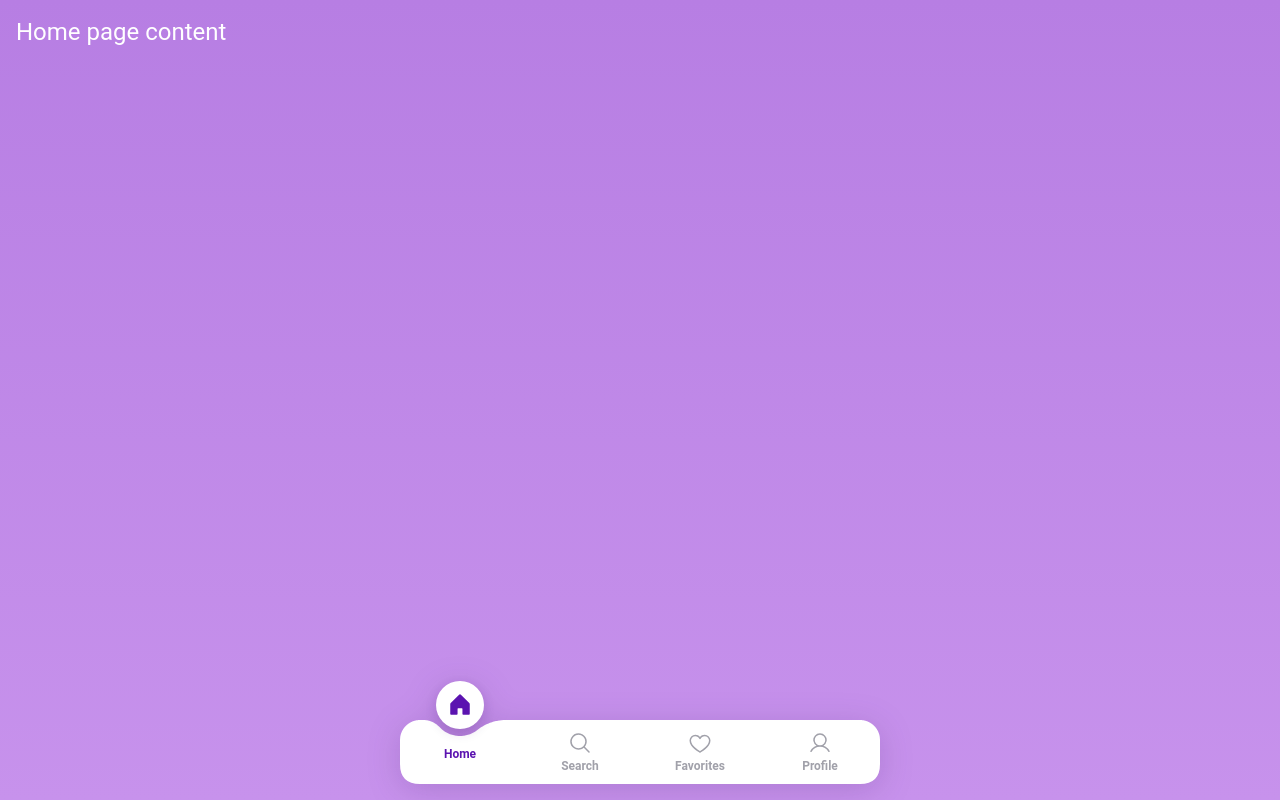
Test: shows the page for each clicked tab
Expected: the heading "Home page content" is shown, [16, 18, 226, 46]
Step 1. Click the button "Favorites" → coordinates (700, 752), box [640, 720, 760, 784]
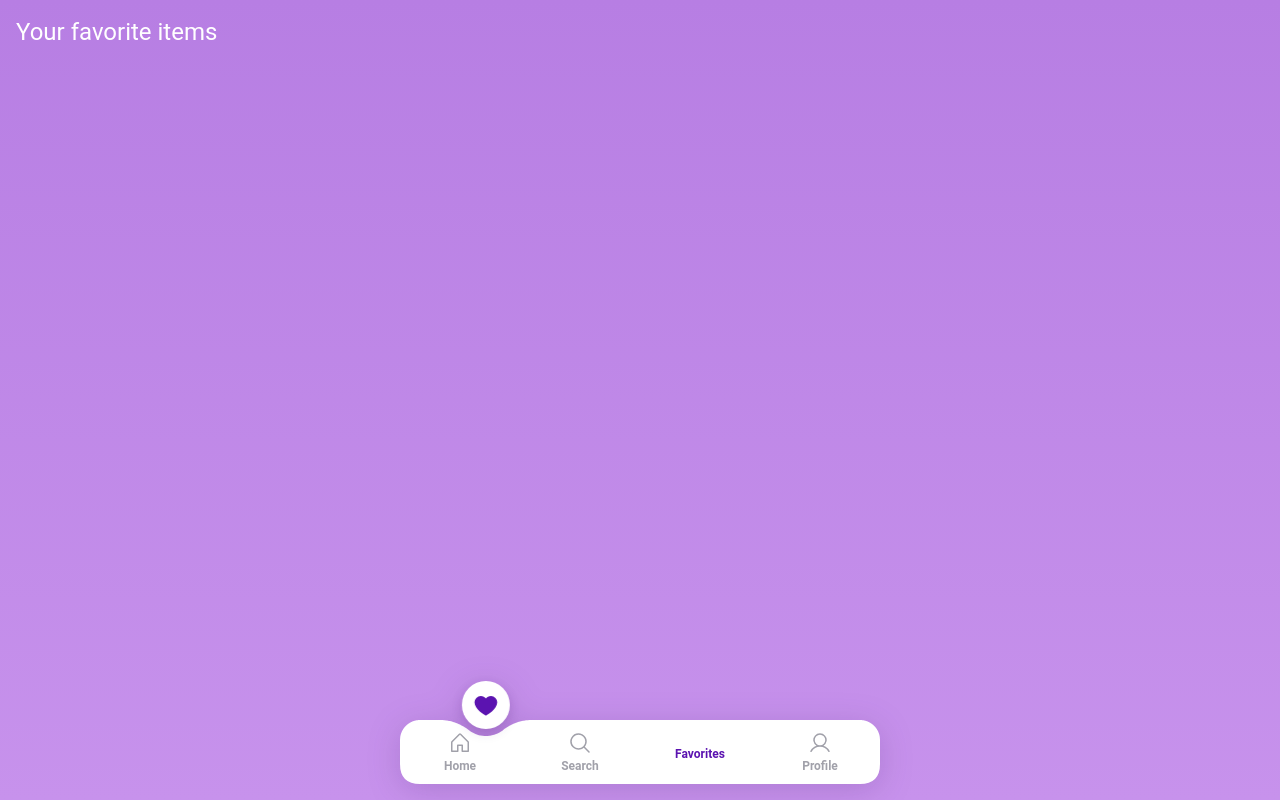
Result: the heading "Your favorite items" is shown at [16, 18, 217, 46]
Result: the heading "Home page content" is gone
Step 2. Click the button "Profile" → coordinates (820, 752), box [760, 720, 880, 784]
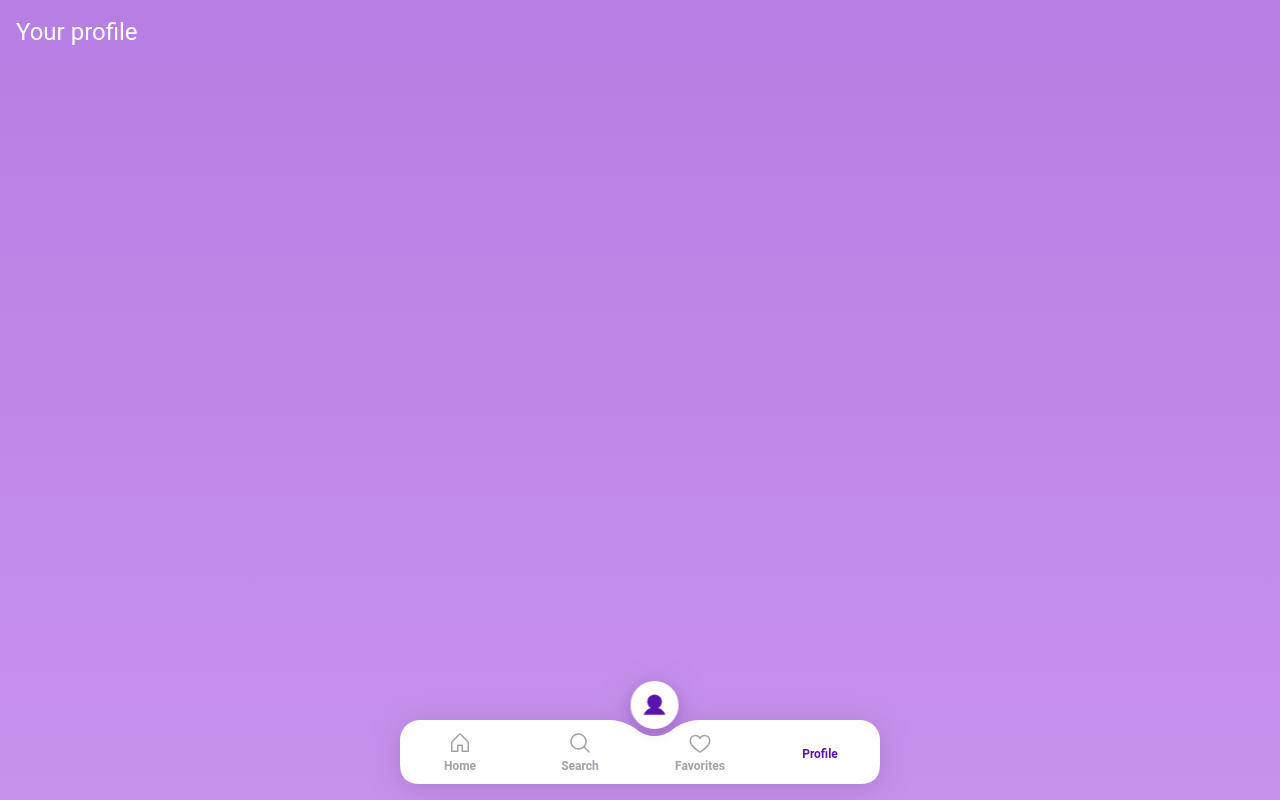
Result: the heading "Your profile" is shown at [16, 18, 138, 46]
Result: the heading "Your favorite items" is gone
Step 3. Click the button "Home" → coordinates (460, 752), box [400, 720, 520, 784]
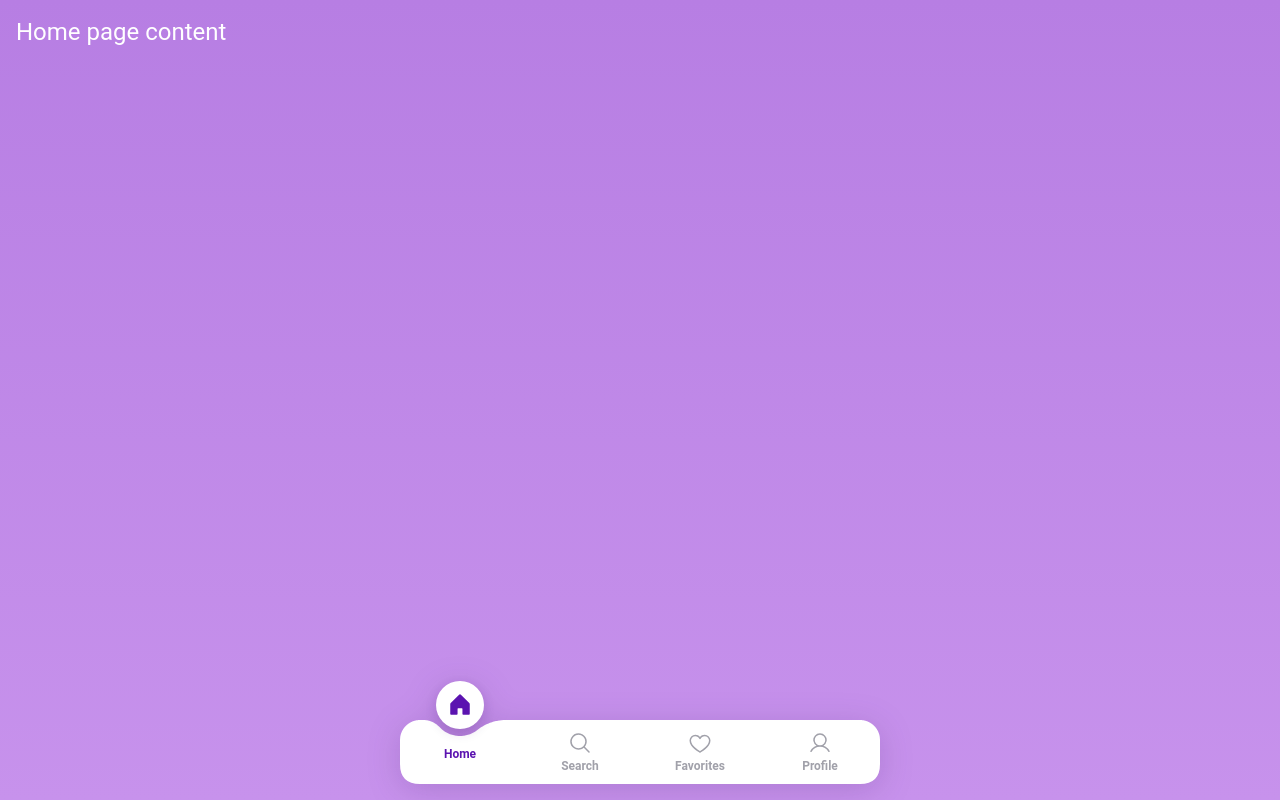
Result: the heading "Home page content" is shown at [16, 18, 226, 46]
